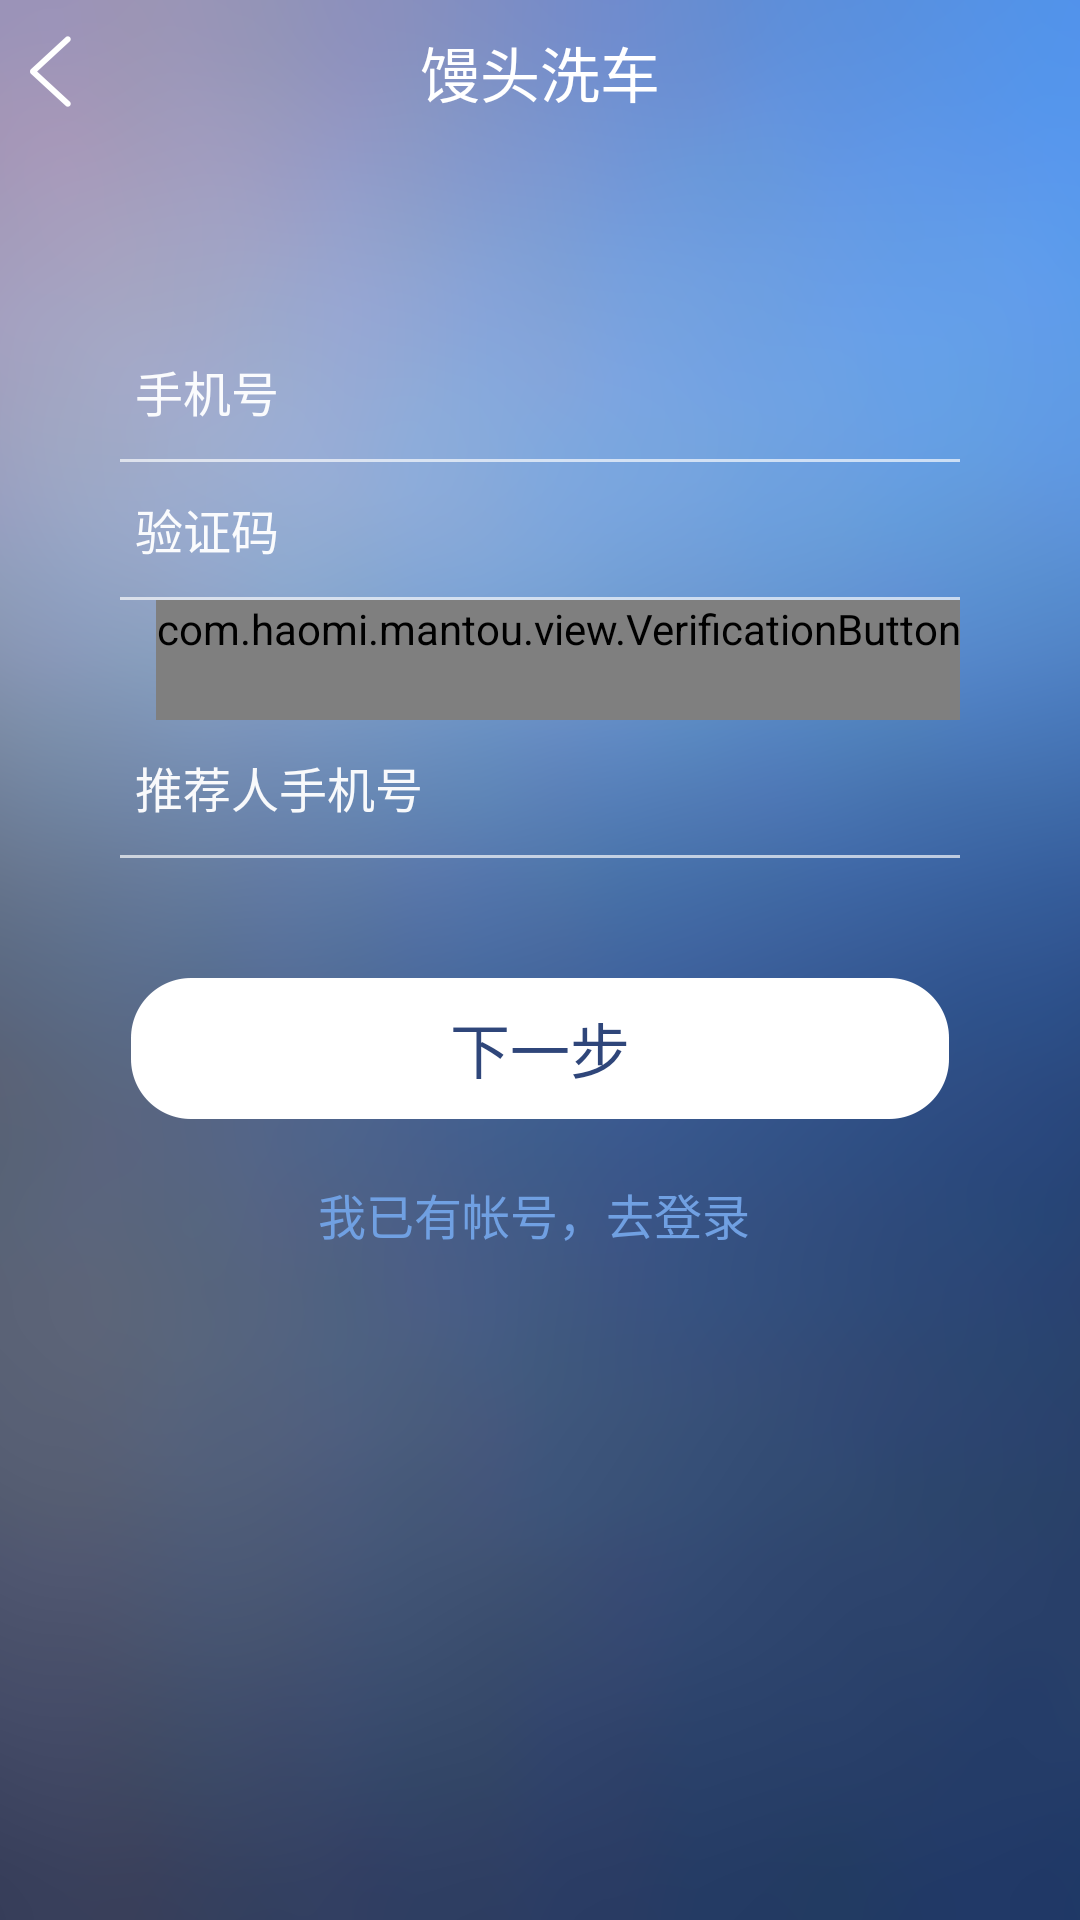

Point at icon controls on the screen. Image size 1080 × 1920, points as (x,y).
titlebar back: (50,71)
